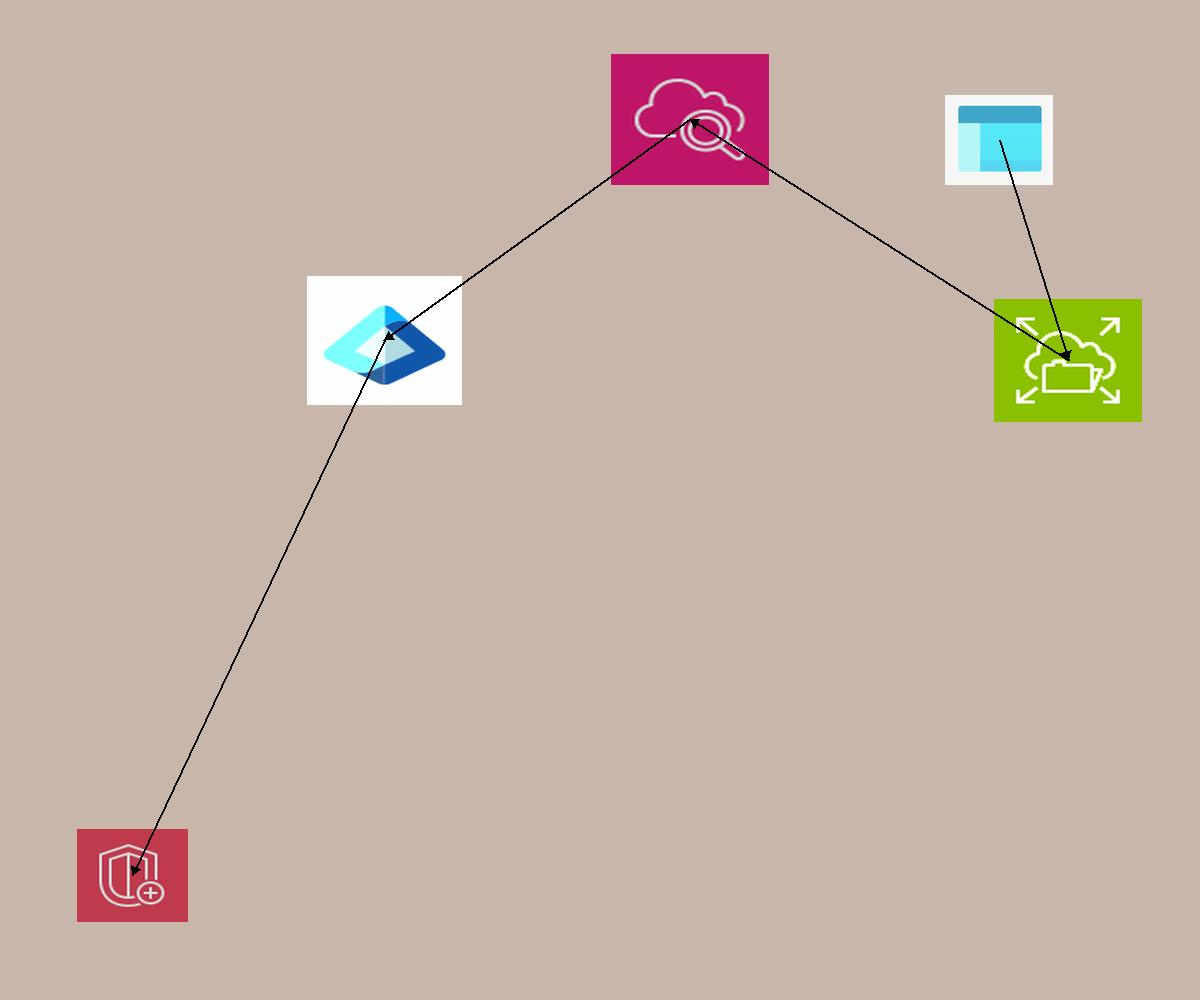AWS-CloudWatch: (611, 54, 769, 185)
AWS-EFS: (994, 299, 1142, 422)
AWS-Shield: (77, 829, 188, 922)
Azure_management-portal: (945, 95, 1053, 185)
Azure_microsoft_entra: (307, 276, 462, 405)
